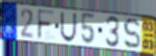2: (20, 8, 35, 40)
3: (104, 15, 121, 49)
5: (80, 12, 96, 47)
F: (36, 9, 56, 42)
S: (123, 17, 141, 50)
U: (59, 11, 78, 44)
